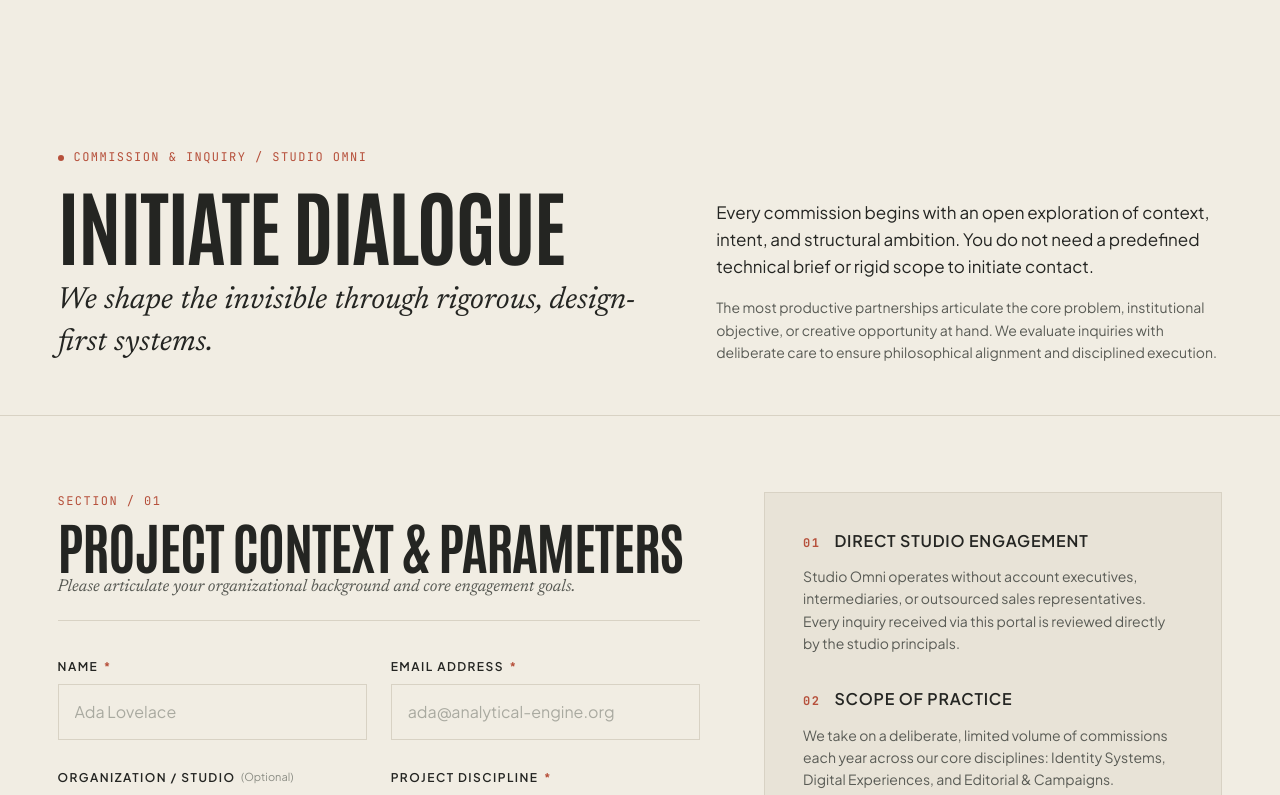
Test case: Studio Omni Contact System & Inquiry Protocol › API Submission Lifecycle › prevents duplicate submissions while request is in flight
This screenshot has width=1280, height=795.
Note: Fill valid data
In the field labelled "Name *": (212, 712) [58, 684, 367, 740], type "Helena Markson"
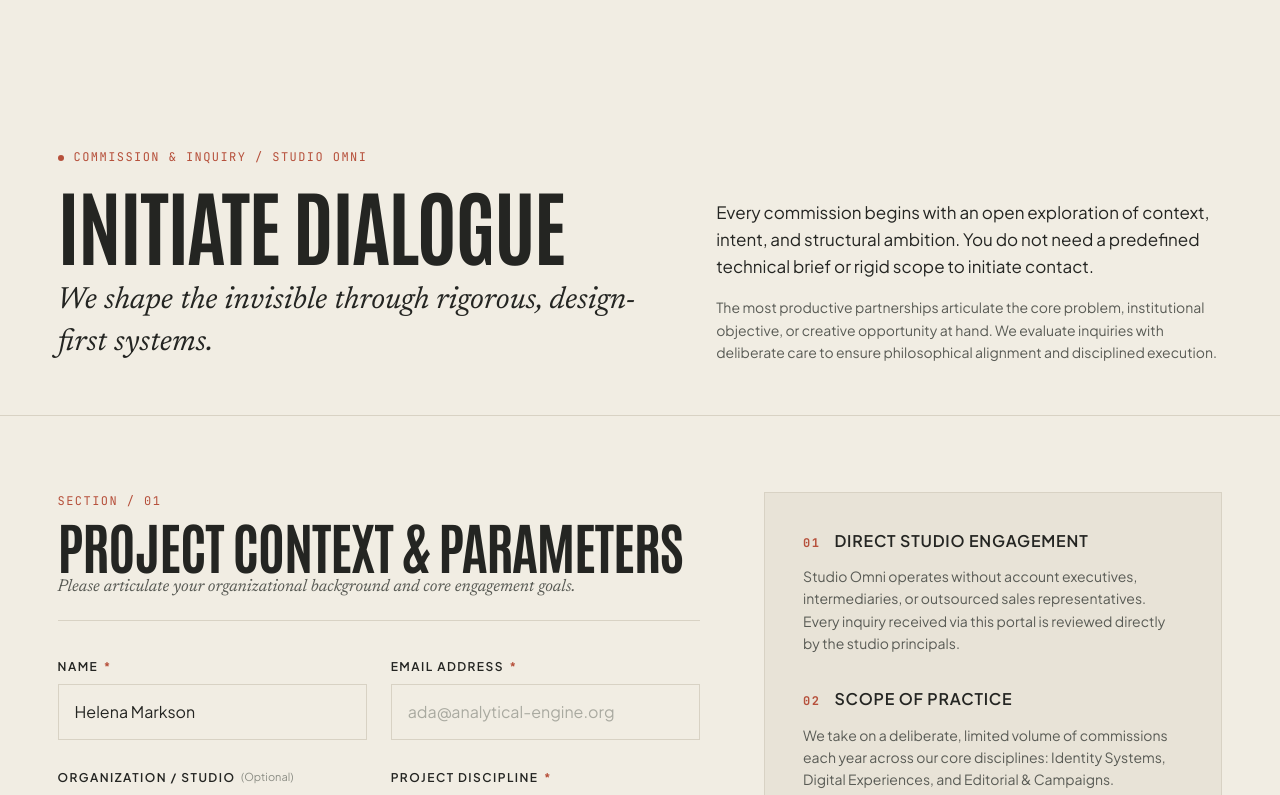
In the field labelled "Email Address *": (545, 712) [391, 684, 700, 740], type "helena@markson-design.org"
(page scrolled)
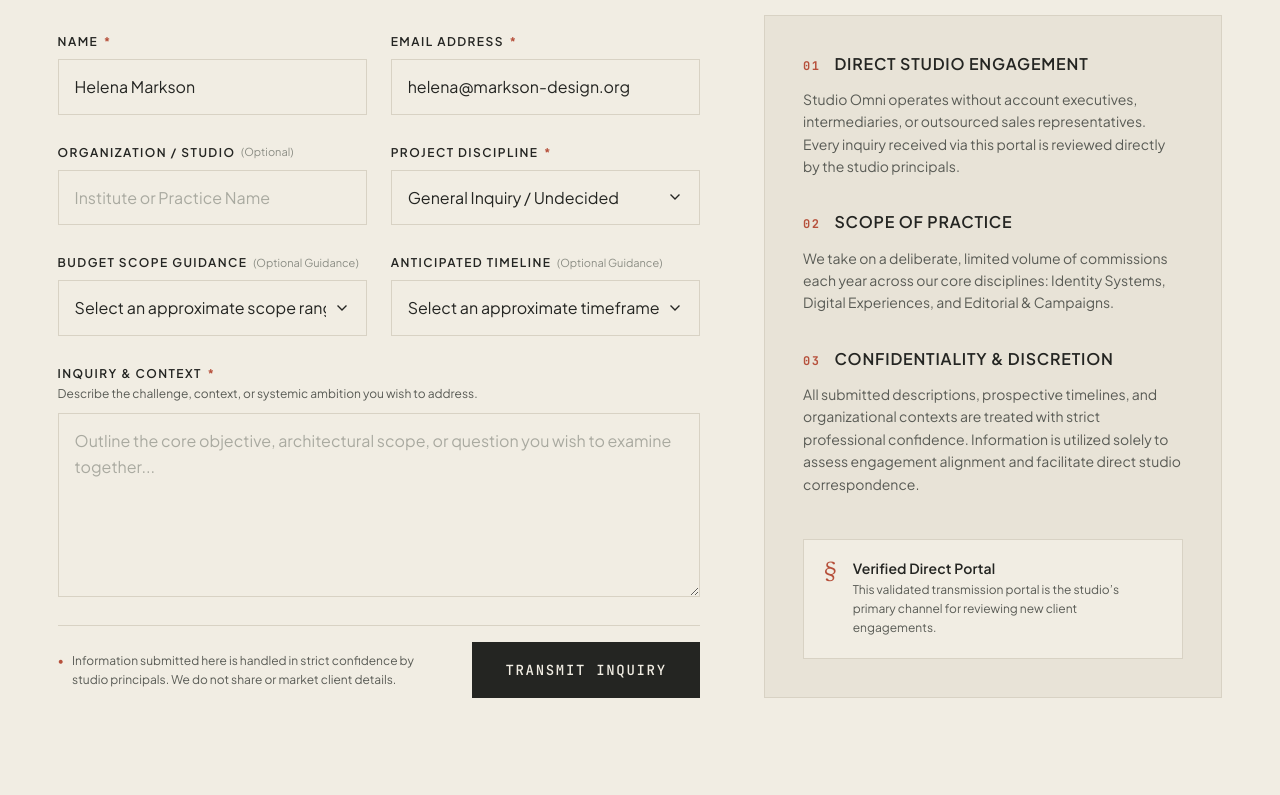
Replace the text in the text box labelled "Inquiry & Context *" with "Comprehensive identity and digital design inquiry for new cultural pavilion.": (379, 505) [58, 413, 700, 597]
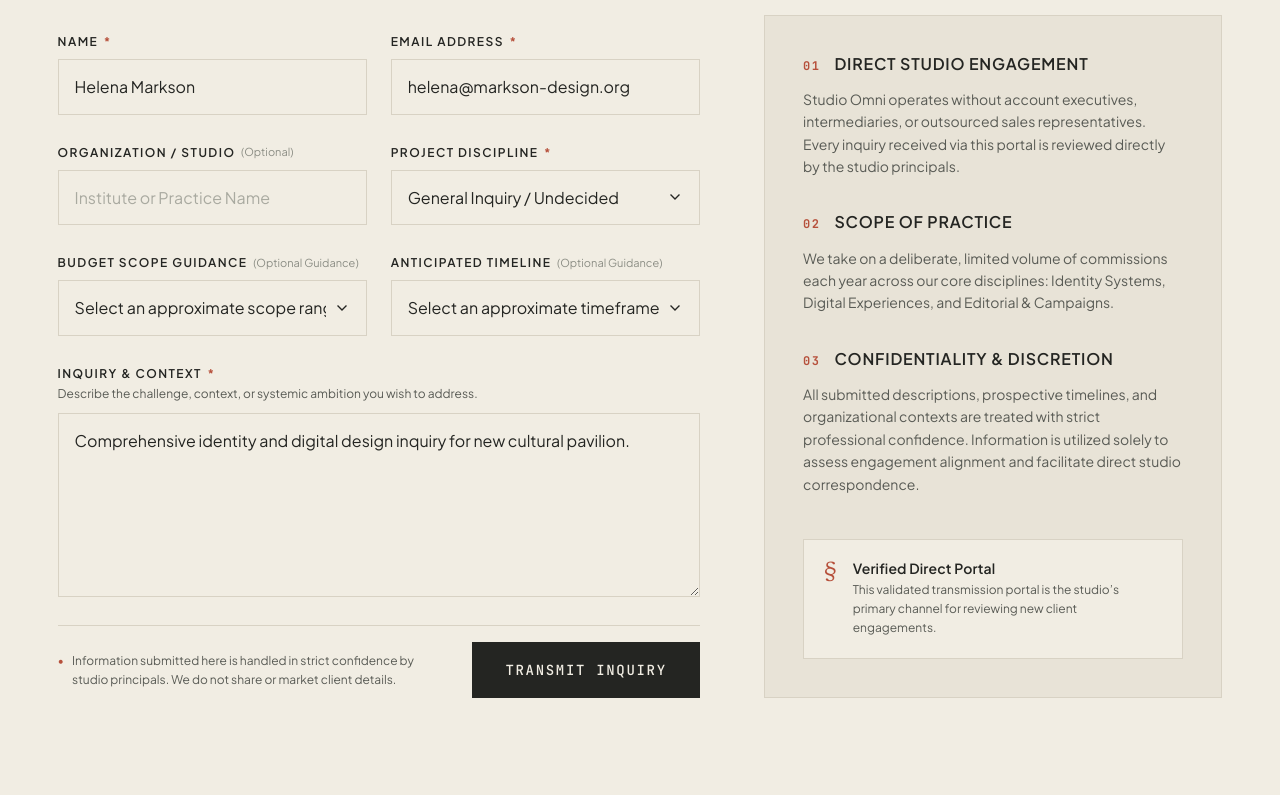
Click the button "Transmit Inquiry": (586, 670) [472, 642, 700, 698]
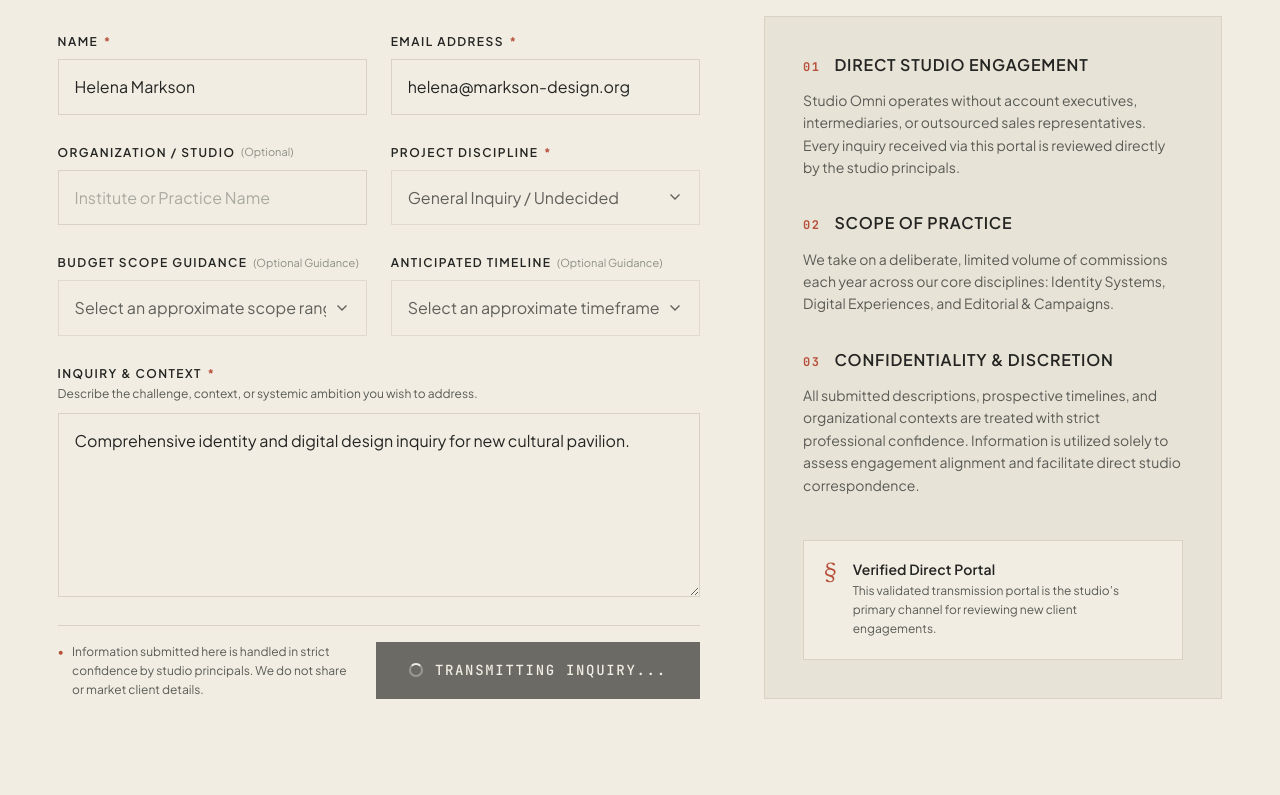
Expected: the button named "transmit inquiry" is disabled
Expected: the text "Transmitting Inquiry..." is shown, [409, 659, 667, 682]
Note: Secondary click should be ignored
Click the button named "transmit inquiry": (538, 670) [376, 642, 700, 699]
(page scrolled)
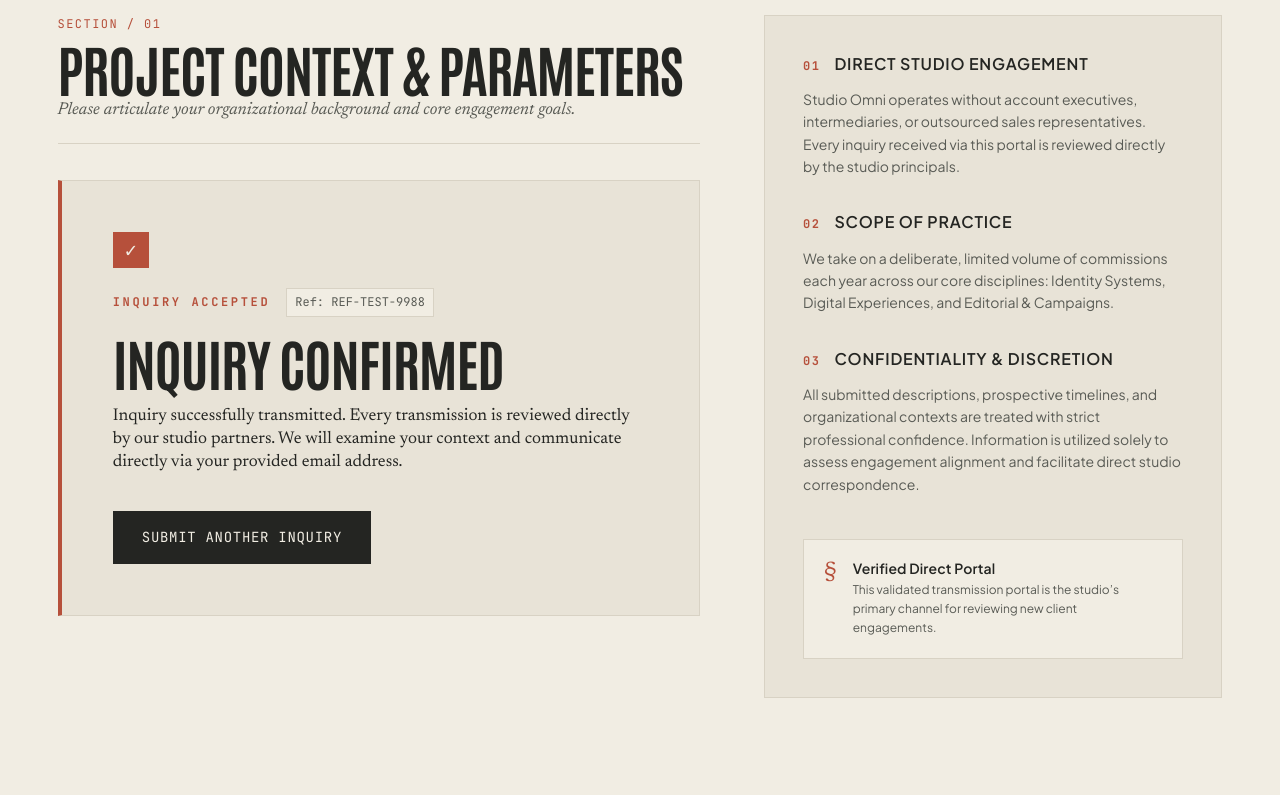
Expected: the heading "Inquiry Confirmed" is shown, [113, 337, 504, 386]
Expected: the text "Ref: REF-TEST-9988" is shown, [286, 288, 434, 317]
